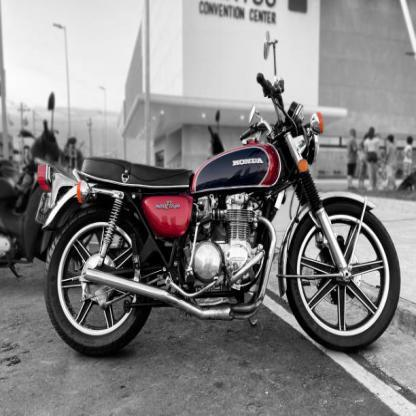Motorcycle: (43, 40, 405, 358)
